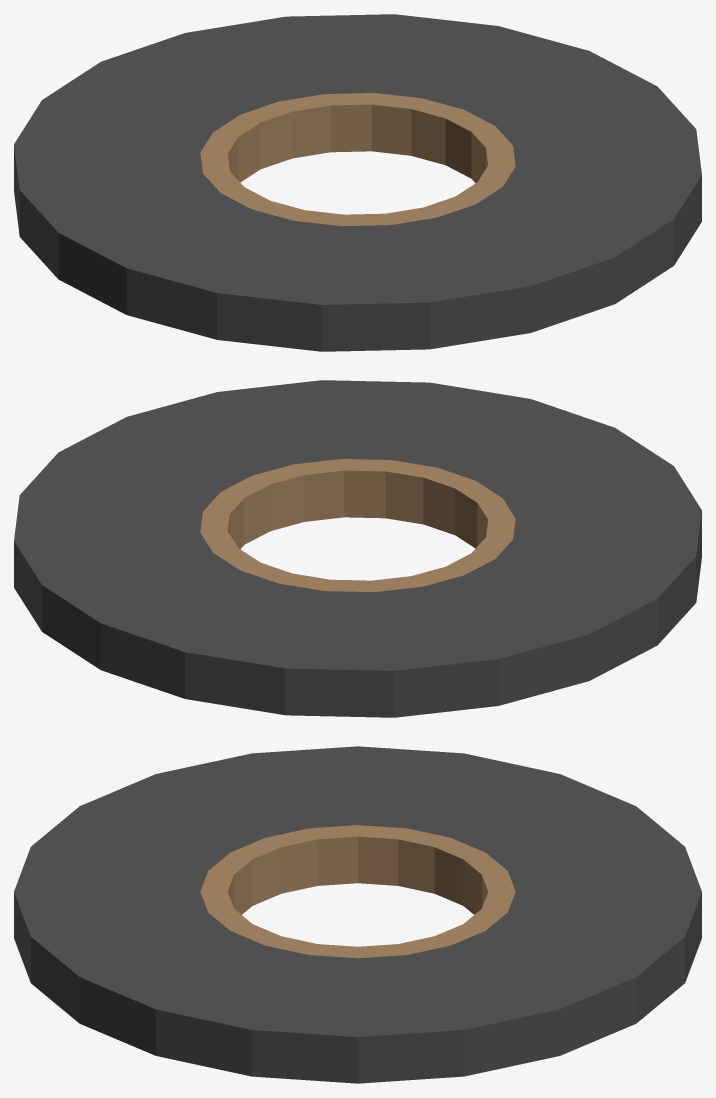
The model's file is seal-tape-epdm.glb.
3 views of the same model, one above another, from view 1: azimuth 30°, elevation 25°; view 2: azimuth 150°, elevation 25°; view 3: azimuth 270°, elevation 25° (orthographic).
Visible parts, largest first — view 1: body; view 2: body; view 3: body.
Part boxes in pixels (x1,y1,x2,y2): body: [14, 14, 701, 351]; body: [14, 380, 701, 717]; body: [14, 746, 701, 1083].
Size of what is drawn, in the model's own units: 0.2007 by 0.015 by 0.2007.
